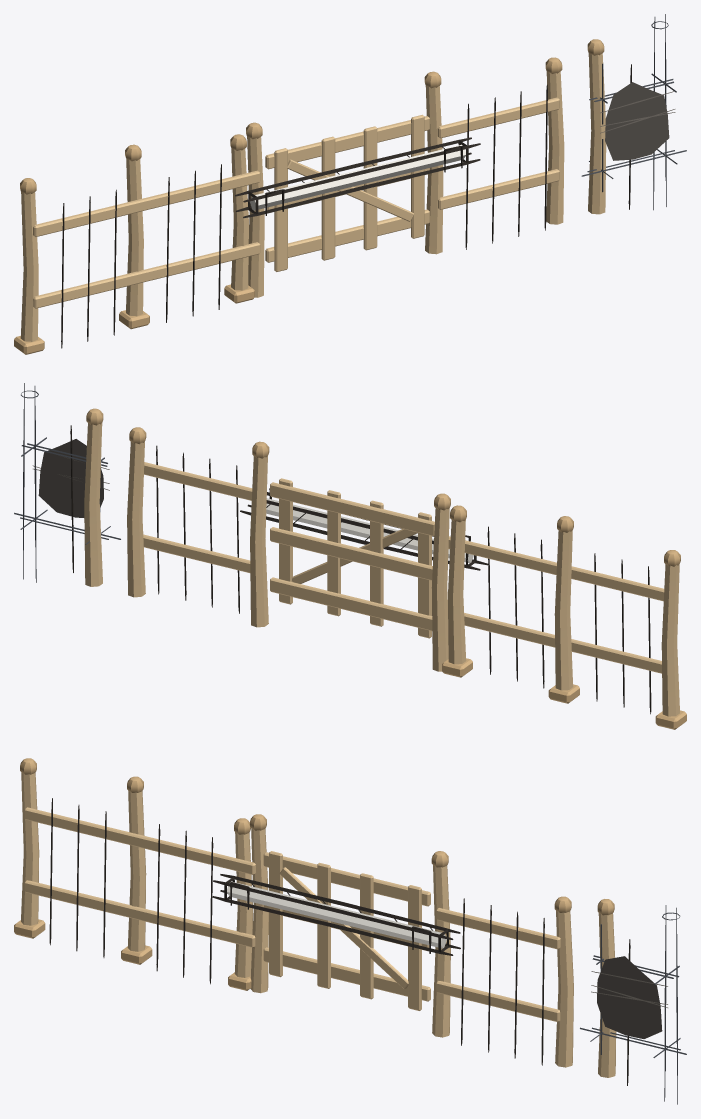
File: Fence_DrawnBar.fbx
3 renders of one model, top to bottom at view 1: azimuth 30°, elevation 25°; view 2: azimuth 150°, elevation 25°; view 3: azimuth 330°, elevation 25°, orthographic.
Parts seen in each view (by area): view 1: Fence, Gate, Lines, Bar; view 2: Fence, Gate, Lines, Bar; view 3: Fence, Gate, Lines, Bar.
Boxes of the visible parts, x1,y1,x2,y2 form: Fence: (14,39,606,354); Gate: (265,114,429,271); Lines: (61,14,686,348); Bar: (235,137,480,217); Fence: (84,408,686,729); Gate: (270,478,434,638); Lines: (14,383,651,714); Bar: (240,488,488,570); Fence: (14,758,616,1077); Gate: (263,851,430,1010); Lines: (49,798,686,1104); Bar: (212,874,460,955).
Size of the model in its own units: 6.3 by 1.76 by 0.4752.
